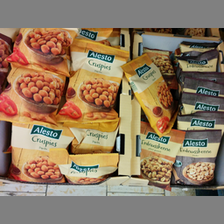nuts: (53, 36, 129, 132), (121, 52, 180, 137), (1, 63, 66, 130), (9, 124, 74, 184), (140, 122, 184, 191)
